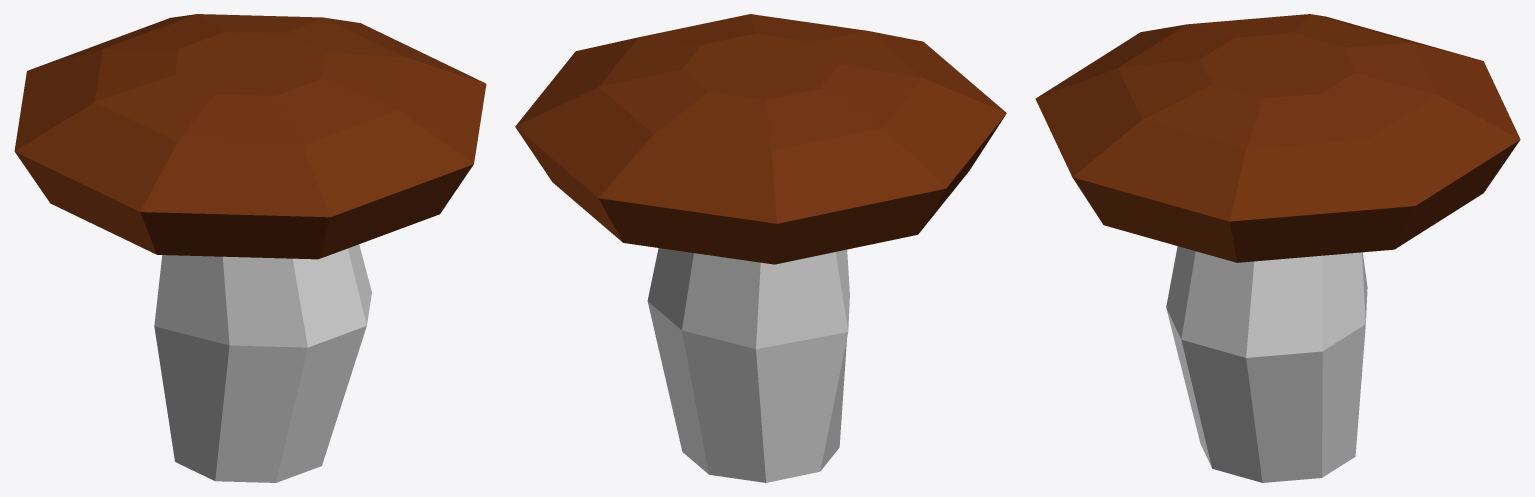
File: F_Mushroom.fbx
The picture shows the model from 3 angles, left to right: view 1: azimuth 30°, elevation 25°; view 2: azimuth 150°, elevation 25°; view 3: azimuth 270°, elevation 25°; orthographic projection.
Parts seen in each view (by area): view 1: F_Mushroom; view 2: F_Mushroom; view 3: F_Mushroom.
Boxes of the visible parts, bbox=[...] form: F_Mushroom: bbox=[14, 14, 486, 482]; F_Mushroom: bbox=[515, 14, 1006, 482]; F_Mushroom: bbox=[1035, 14, 1520, 482].
Size of the model in its own units: 614 by 536 by 614.
